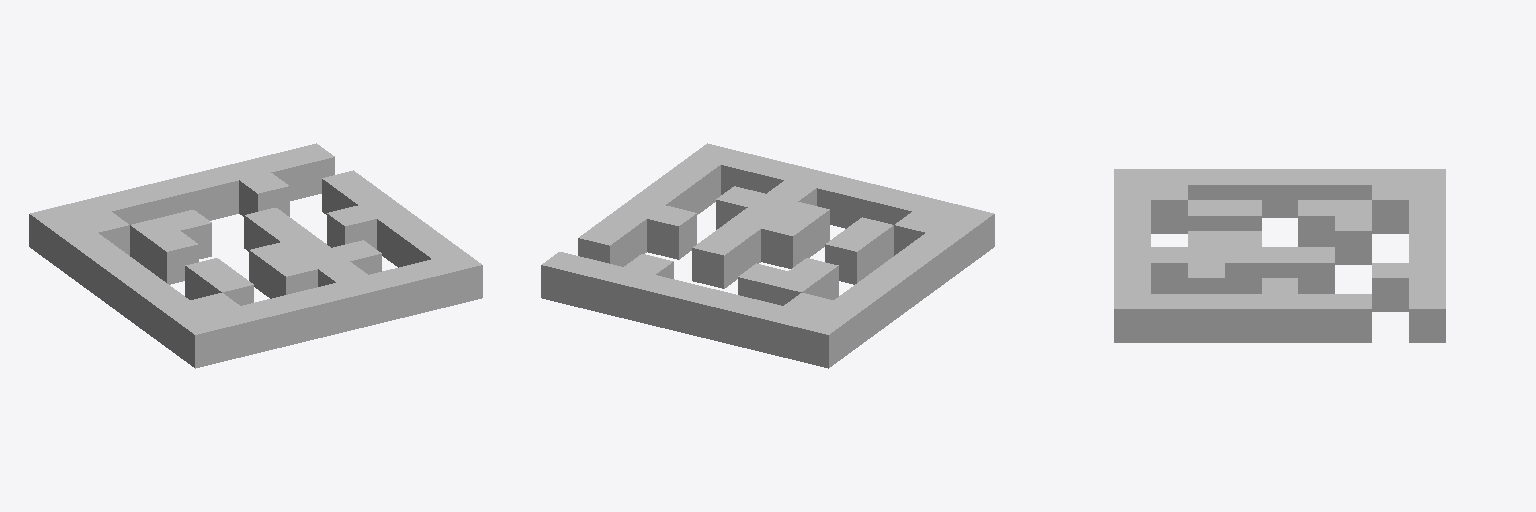
The model's file is map3.5.obj.
3 renders of one model, left to right at view 1: azimuth 30°, elevation 25°; view 2: azimuth 150°, elevation 25°; view 3: azimuth 270°, elevation 25°, orthographic.
Parts seen in each view (by area): view 1: mergedBlocks; view 2: mergedBlocks; view 3: mergedBlocks.
Boxes of the visible parts, x1=… form: mergedBlocks: x1=29, y1=143, x2=482, y2=368; mergedBlocks: x1=541, y1=143, x2=994, y2=368; mergedBlocks: x1=1114, y1=169, x2=1445, y2=342.
Bounding box in the file's own units: 9 × 1 × 9.